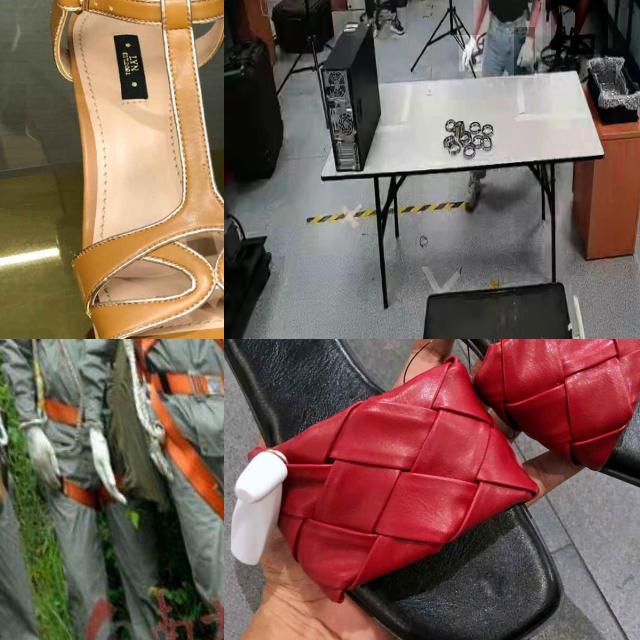Harness: (134, 339, 224, 518)
Sandals: (224, 339, 640, 640), (34, 0, 224, 339)
hand_glove: (514, 27, 536, 77), (459, 35, 483, 72)
person: (473, 0, 542, 78), (551, 0, 608, 55), (354, 0, 406, 38)
shoes: (388, 10, 406, 38)
